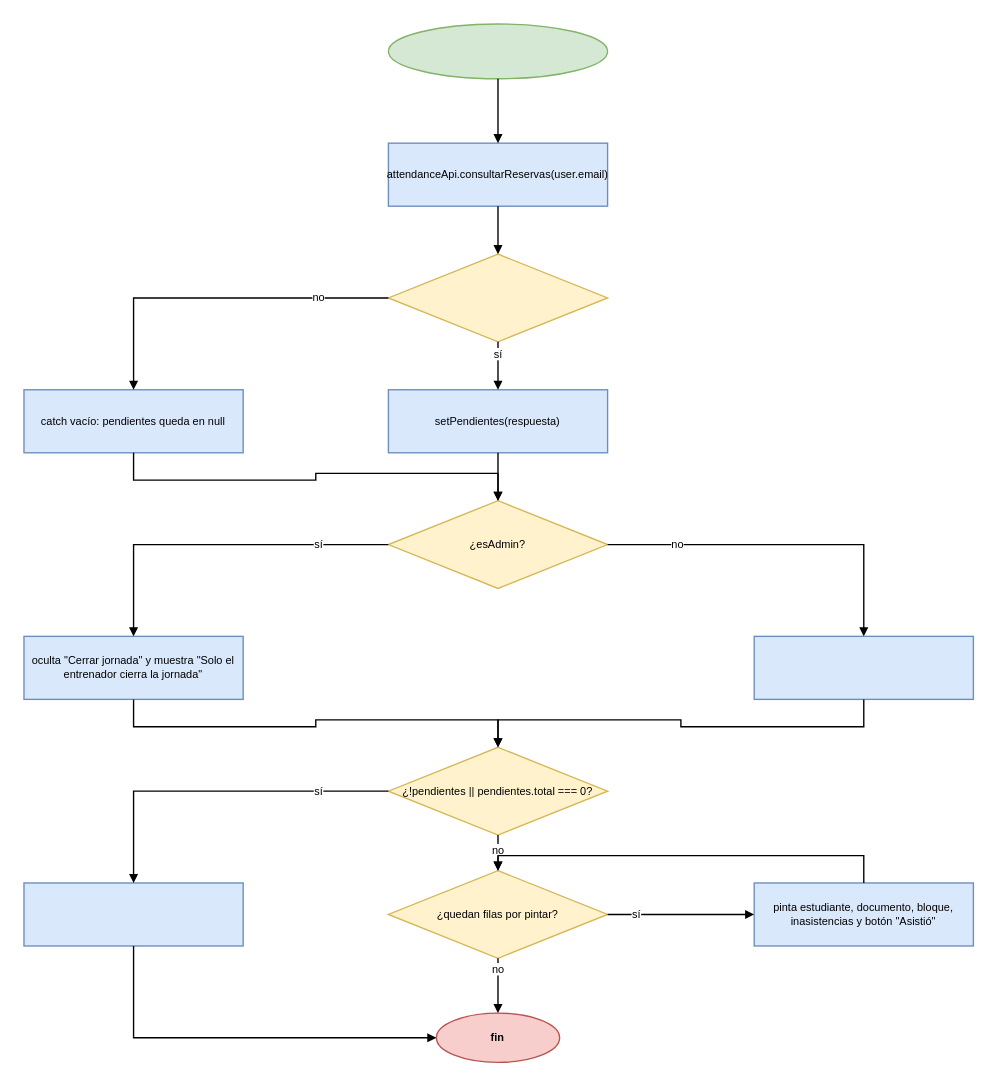
Image size: 997x1086. Some labels were removed from this diagram. The box of each missing label's shape, as (x1, y1, x2, y2) in pixels:
inicio: se carga el panel (refrescar): (387, 23, 608, 79)
muestra "No hay estudiantes pendientes": (23, 882, 243, 946)
muestra el botón "Cerrar jornada" y el aviso del límite: (753, 635, 973, 699)
¿la petición respondió ok?: (387, 253, 608, 342)
